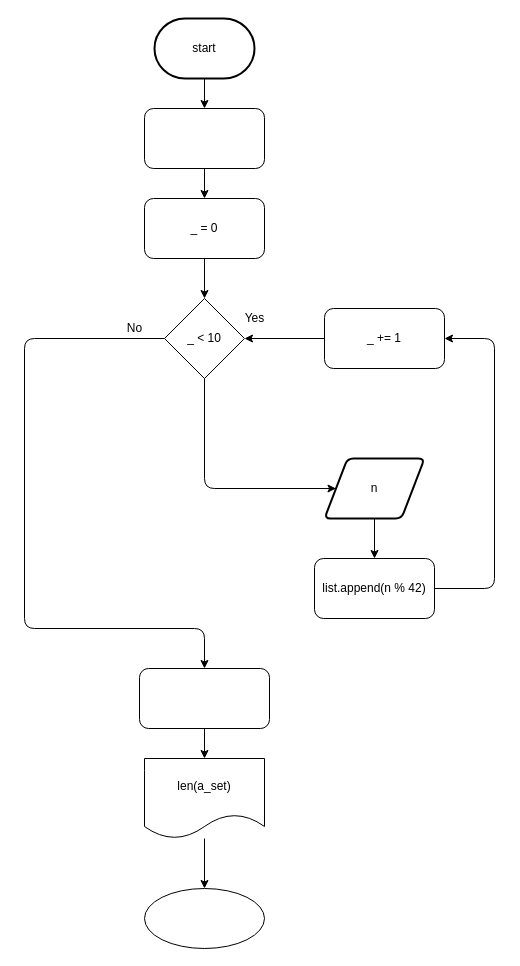
The diagram is 520 pixels wide and 966 high, and some of its shapes have lost their labels. The centre of each missing label's shape, as x and y in pixels:
a_list: pixel 204 138
a_set = set(a_list): pixel 204 698
end: pixel 204 918
